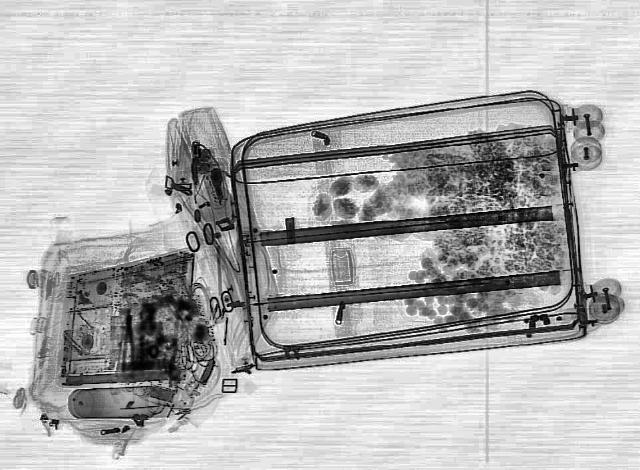Pliers: (120, 309, 136, 371)
